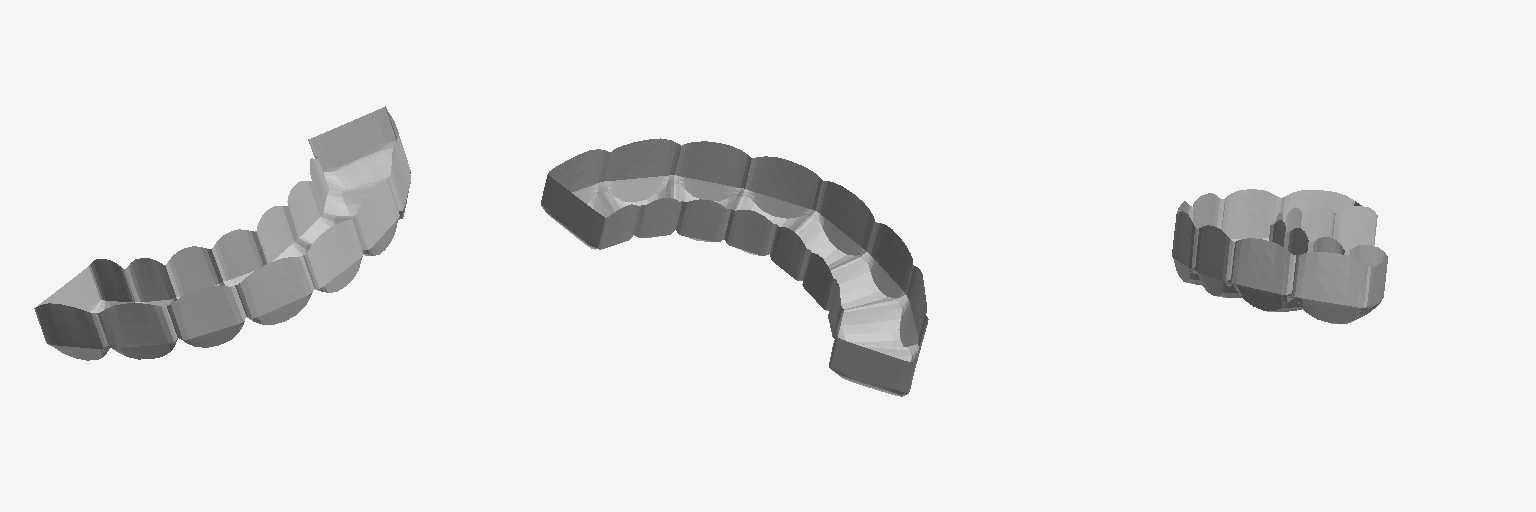
Rendered from SubTool-24-12261013.OBJ.
The picture shows the model from 3 angles: view 1: azimuth 30°, elevation 25°; view 2: azimuth 150°, elevation 25°; view 3: azimuth 270°, elevation 25°; orthographic projection.
Parts seen in each view (by area): view 1: Group9; view 2: Group9; view 3: Group9.
Part boxes in pixels (left/top/right/bottom): Group9: left=34, top=106, right=410, bottom=360; Group9: left=541, top=138, right=928, bottom=396; Group9: left=1172, top=189, right=1387, bottom=323.
Size of the model in its own units: 7.3 by 3.1 by 3.71.